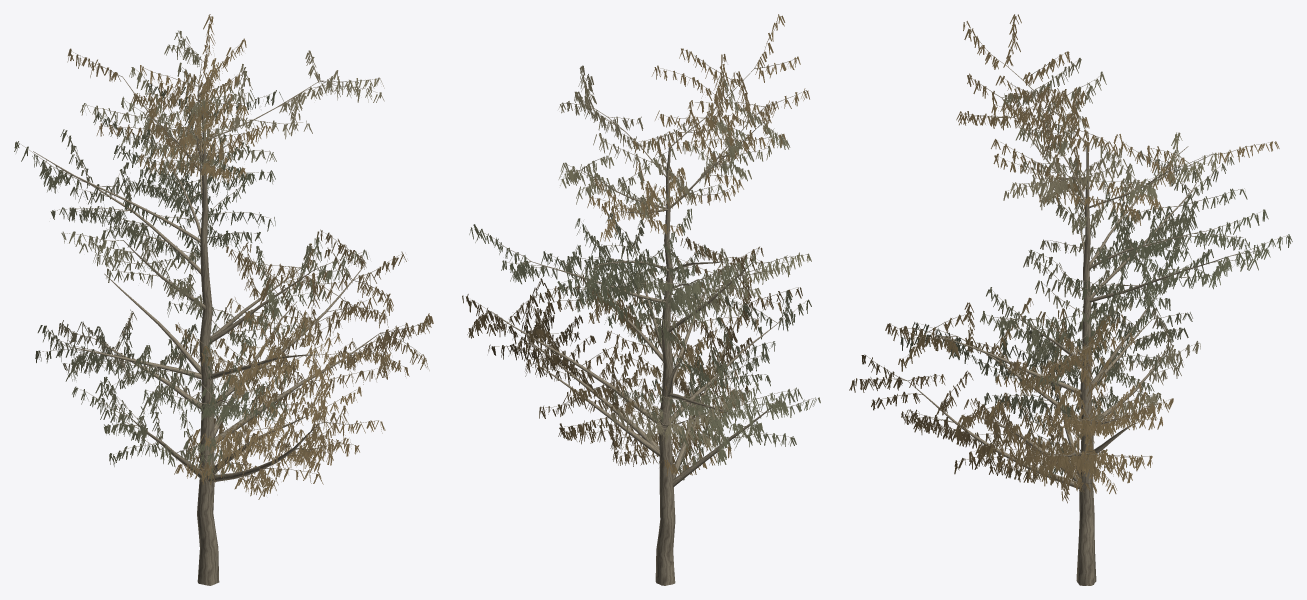
Rendered from euc2.glb.
The picture shows the model from 3 angles, left to right: view 1: azimuth 30°, elevation 25°; view 2: azimuth 150°, elevation 25°; view 3: azimuth 270°, elevation 25°; orthographic projection. The views are drawn at different scales.
Visible parts, largest first — view 1: euc2_lod0_1, euc2_lod0_0; view 2: euc2_lod0_1, euc2_lod0_0; view 3: euc2_lod0_1, euc2_lod0_0.
Part boxes in pixels (left/top/right/bottom): euc2_lod0_1: left=14, top=14, right=433, bottom=499; euc2_lod0_0: left=21, top=17, right=426, bottom=585; euc2_lod0_1: left=462, top=14, right=820, bottom=480; euc2_lod0_0: left=465, top=21, right=815, bottom=585; euc2_lod0_1: left=849, top=14, right=1292, bottom=503; euc2_lod0_0: left=859, top=16, right=1287, bottom=585.
Size of what is drawn, in the model's own units: 14.78 by 22.81 by 17.12.
2 materials, 1 textured.
